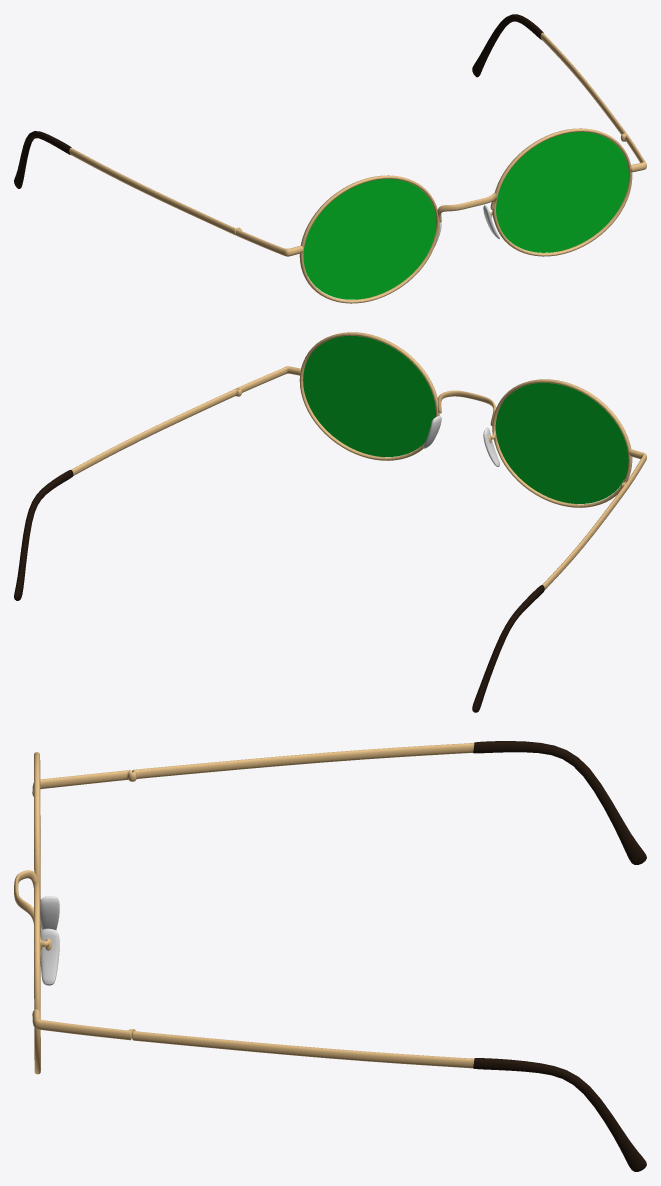
Rendered from Sunglasses_5.fbx.
The picture shows the model from 3 angles, top to bottom: view 1: azimuth 30°, elevation 25°; view 2: azimuth 150°, elevation 25°; view 3: azimuth 270°, elevation 25°; orthographic projection. The views are drawn at different scales.
Visible parts, largest first — view 1: Cylinder.005, Cube.005, Cylinder.004; view 2: Cylinder.005, Cube.005, Cylinder.004, Cylinder.006; view 3: Cube.005, Cylinder.004, Cylinder.006.
Part boxes in pixels (left/top/right/bottom): Cylinder.005: left=303, top=132, right=628, bottom=299; Cube.005: left=14, top=14, right=646, bottom=256; Cylinder.004: left=299, top=128, right=632, bottom=303; Cylinder.005: left=303, top=335, right=628, bottom=503; Cube.005: left=14, top=366, right=646, bottom=712; Cylinder.004: left=299, top=332, right=632, bottom=507; Cylinder.006: left=423, top=416, right=499, bottom=466; Cube.005: left=14, top=741, right=646, bottom=1171; Cylinder.004: left=34, top=752, right=51, bottom=1074; Cylinder.006: left=40, top=896, right=59, bottom=985.
Size of the model in its own units: 148 by 40.56 by 123.
